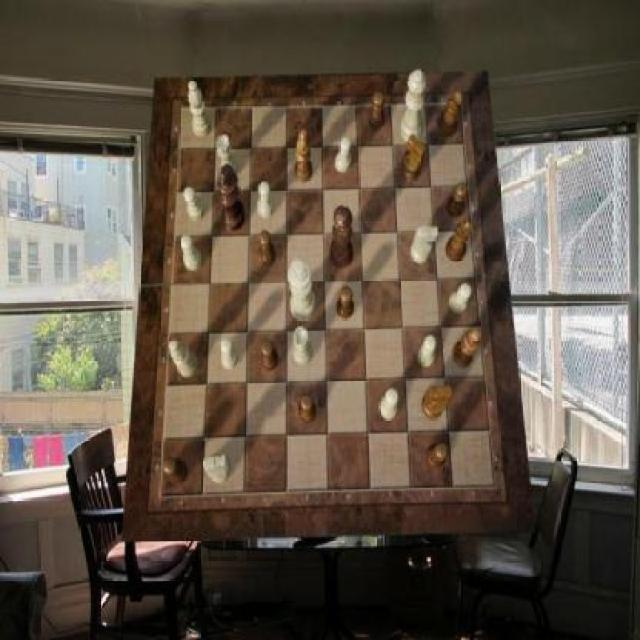bishop: (454, 328, 481, 368), (295, 129, 313, 184)
black-bishop: (217, 165, 245, 232)
black-king: (402, 134, 426, 181), (422, 385, 452, 419)
black-knight: (446, 182, 469, 218), (163, 457, 188, 485), (426, 443, 449, 471), (335, 286, 353, 320), (260, 230, 277, 266), (368, 91, 384, 129), (298, 394, 318, 423), (262, 340, 279, 372)
black-pawn: (330, 206, 354, 270)
black-queen: (444, 218, 472, 261), (438, 91, 462, 138)
black-rook: (190, 80, 212, 138), (170, 339, 198, 376)
white-bishop: (289, 258, 317, 322)
white-king: (411, 226, 438, 264), (203, 452, 231, 483)
white-knight: (180, 236, 202, 272), (184, 186, 206, 221), (450, 283, 472, 314), (380, 388, 400, 420), (220, 338, 238, 371), (258, 182, 274, 219), (336, 137, 352, 173), (419, 335, 436, 368)
white-pawn: (400, 69, 427, 143)
white-queen: (217, 134, 240, 180), (294, 326, 314, 365)
